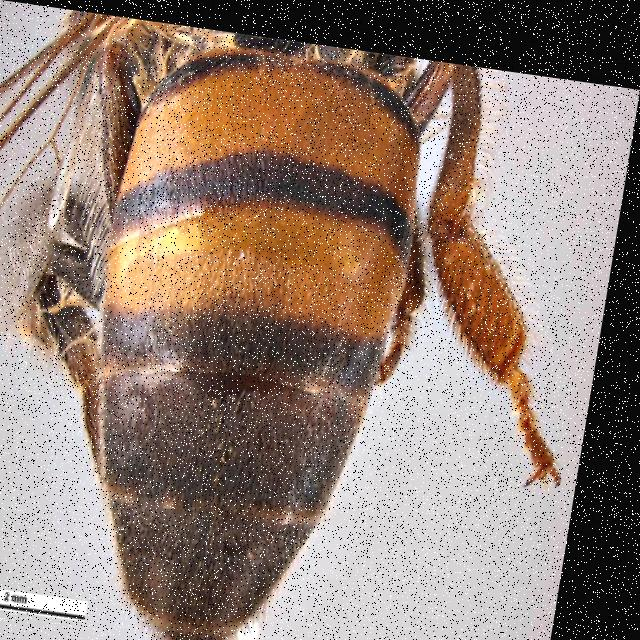Apis-mellifera-scutellata: (0, 0, 555, 640)
